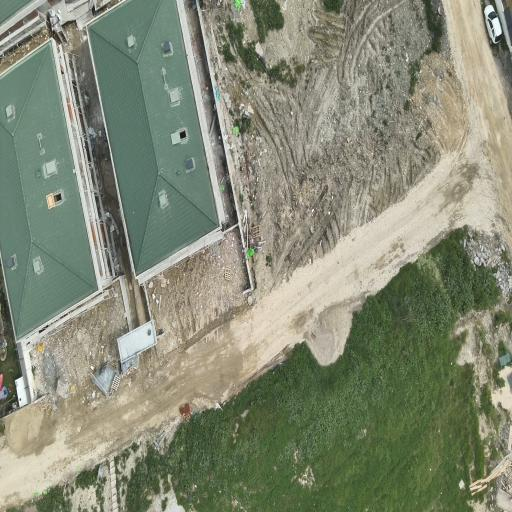car: (484, 5, 502, 43)
